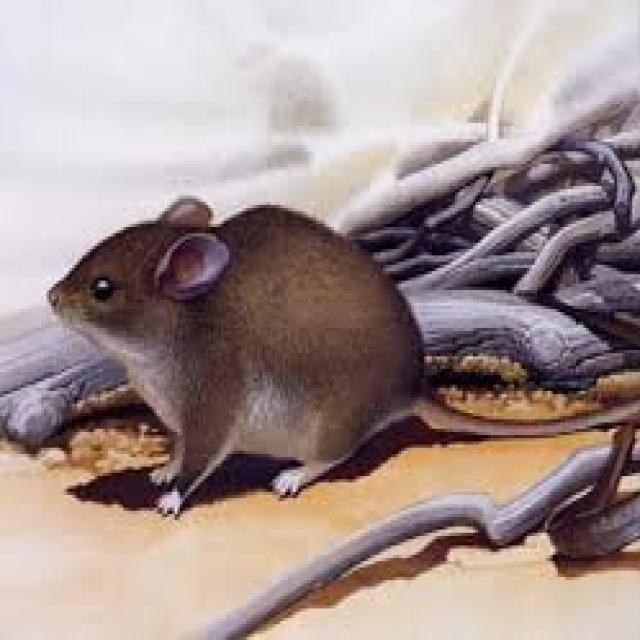Rat: (18, 138, 470, 492)
